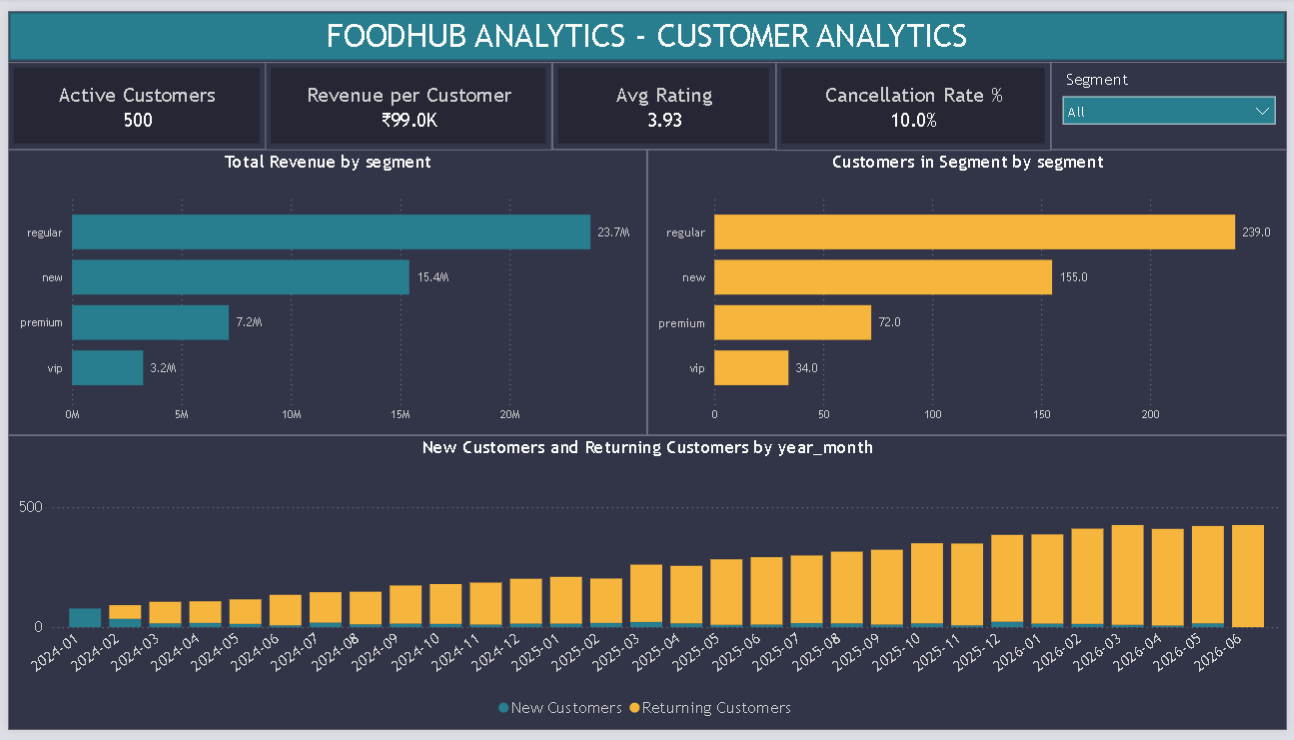

Layout of this report page (visuals, bound fields, positions):
{"tool":"powerbi","page":{"name":"Customer Analytics","canvas":[1280,720],"ordinal":1},"visuals":[{"type":"cardVisual","fields":{"Data":["public fact_orders.Active Customers"]},"box":[0,51,258.8,88],"z":0},{"type":"cardVisual","fields":{"Data":["public fact_orders.Revenue per Customer"]},"box":[258,51.2,287,88.8],"z":1000},{"type":"cardVisual","fields":{"Data":["public fact_reviews.Avg Rating"]},"box":[545,51,223.8,88],"z":2000},{"type":"columnChart","fields":{"Category":["public dim_date.year_month"],"Y":["public fact_orders.New Customers","public fact_orders.Returning Customers"]},"box":[0,424.7,1280,295.6],"z":3000},{"type":"clusteredBarChart","fields":{"Category":["public dim_customers.segment"],"Y":["public fact_orders.Total Revenue"]},"box":[0,139,640,286.2],"z":4000},{"type":"clusteredBarChart","fields":{"Category":["public dim_customers.segment"],"Y":["public dim_customers.Customers in Segment"]},"box":[640,139,640,286.2],"z":5000},{"type":"slicer","fields":{"Values":["public dim_customers.segment"]},"box":[1043.8,51,236.2,88],"z":6000},{"type":"cardVisual","fields":{"Data":["public fact_orders.Cancellation Rate %"]},"box":[768.8,51.2,275,88.8],"z":7000},{"type":"group","id":"g1","title":"Group 1","box":[0,0,1280,52.5],"z":8000},{"type":"shape","box":[0,0,1280,51.7],"z":10000,"group":"g1"},{"type":"textbox","box":[124.7,0,1029.4,52.5],"z":11000,"group":"g1"}]}

Visuals, with their boxes in screenshot pixels (x1, y1, x2, y2), scaled from the page's 1280x720 canvas onto the 1294x740 screenshot:
cardVisual - public fact_orders.Active Customers: [x1=0, y1=52, x2=262, y2=143]
cardVisual - public fact_orders.Revenue per Customer: [x1=261, y1=53, x2=551, y2=144]
cardVisual - public fact_reviews.Avg Rating: [x1=551, y1=52, x2=777, y2=143]
columnChart - public dim_date.year_month x public fact_orders.New Customers: [x1=0, y1=436, x2=1293, y2=739]
clusteredBarChart - public dim_customers.segment x public fact_orders.Total Revenue: [x1=0, y1=143, x2=647, y2=437]
clusteredBarChart - public dim_customers.segment x public dim_customers.Customers in Segment: [x1=647, y1=143, x2=1293, y2=437]
slicer - public dim_customers.segment: [x1=1055, y1=52, x2=1293, y2=143]
cardVisual - public fact_orders.Cancellation Rate %: [x1=777, y1=53, x2=1055, y2=144]
"Group 1" group: [x1=0, y1=0, x2=1293, y2=54]
shape: [x1=0, y1=0, x2=1293, y2=53]
textbox: [x1=126, y1=0, x2=1167, y2=54]
